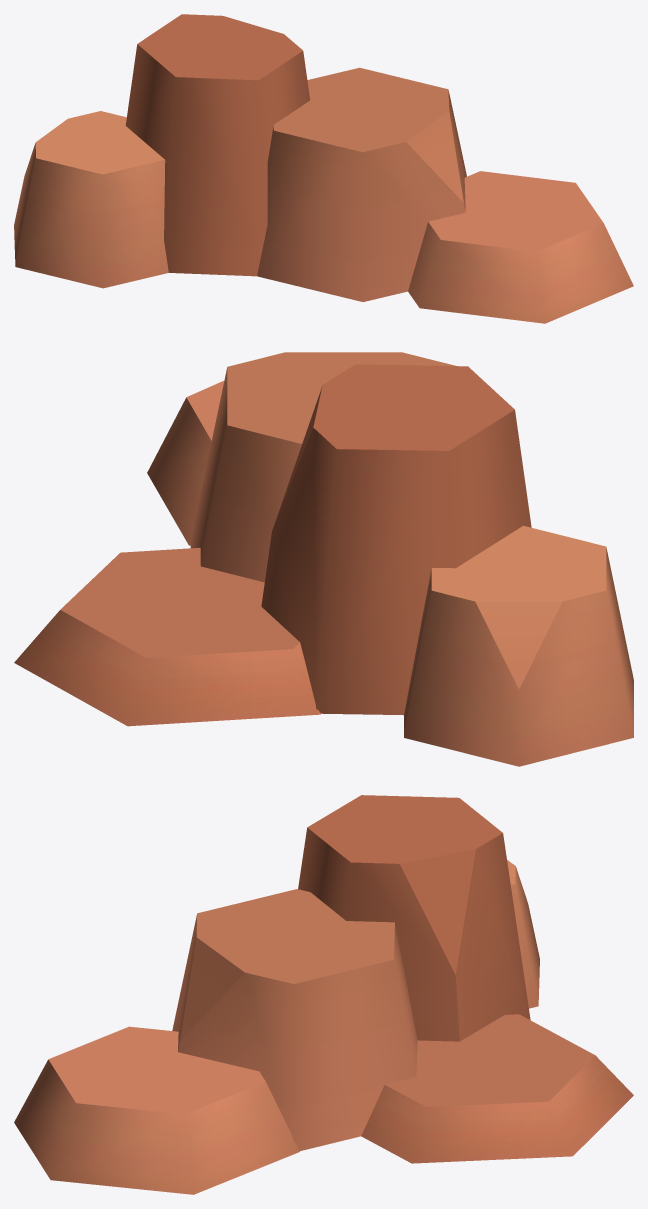
Rendered from kenney-tower-defense-detail-dirt.glb.
3 views of the same model, one above another, from view 1: azimuth 30°, elevation 25°; view 2: azimuth 150°, elevation 25°; view 3: azimuth 270°, elevation 25° (orthographic). The views are drawn at different scales.
Visible parts, largest first — view 1: detail-dirt; view 2: detail-dirt; view 3: detail-dirt.
Boxes of the visible parts, x1,y1,x2,y2 form: detail-dirt: (14,14,633,323); detail-dirt: (14,352,633,766); detail-dirt: (14,795,633,1194).
Bounding box in the file's own units: 0.7027 × 0.2653 × 0.712.
1 material, 1 textured.
